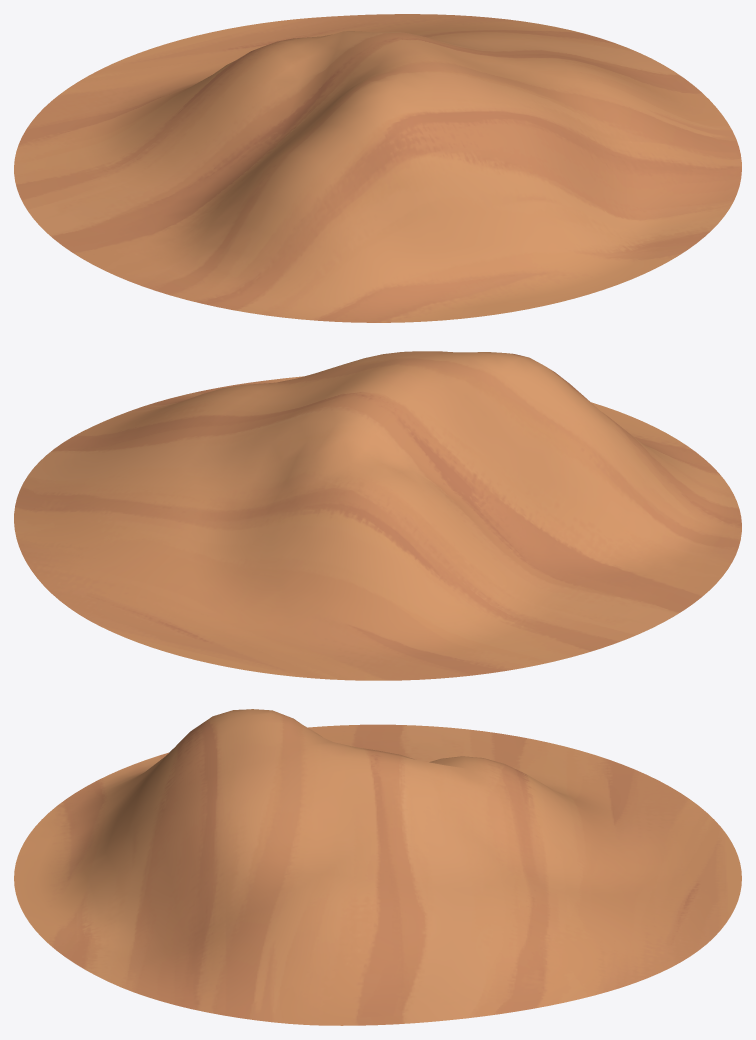
The model's file is SandPile.fbx.
3 views of the same model, one above another, from view 1: azimuth 30°, elevation 25°; view 2: azimuth 150°, elevation 25°; view 3: azimuth 270°, elevation 25° (orthographic).
Parts seen in each view (by area): view 1: pDisc1; view 2: pDisc1; view 3: pDisc1.
Boxes of the visible parts, box(x1,y1,x2,y2) form: pDisc1: box(14, 14, 741, 322); pDisc1: box(14, 351, 741, 680); pDisc1: box(14, 709, 741, 1025).
Bounding box in the file's own units: 10.24 × 2.15 × 10.24.
